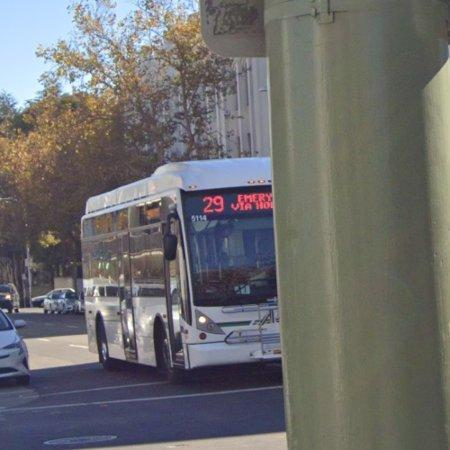buses: (81, 158, 281, 377)
